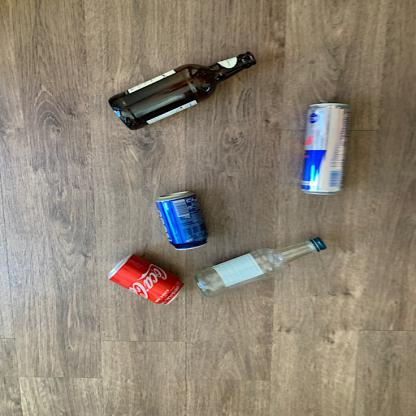trash: (110, 50, 260, 131), (193, 236, 331, 300), (298, 103, 354, 197), (109, 253, 187, 306), (155, 190, 209, 252)
